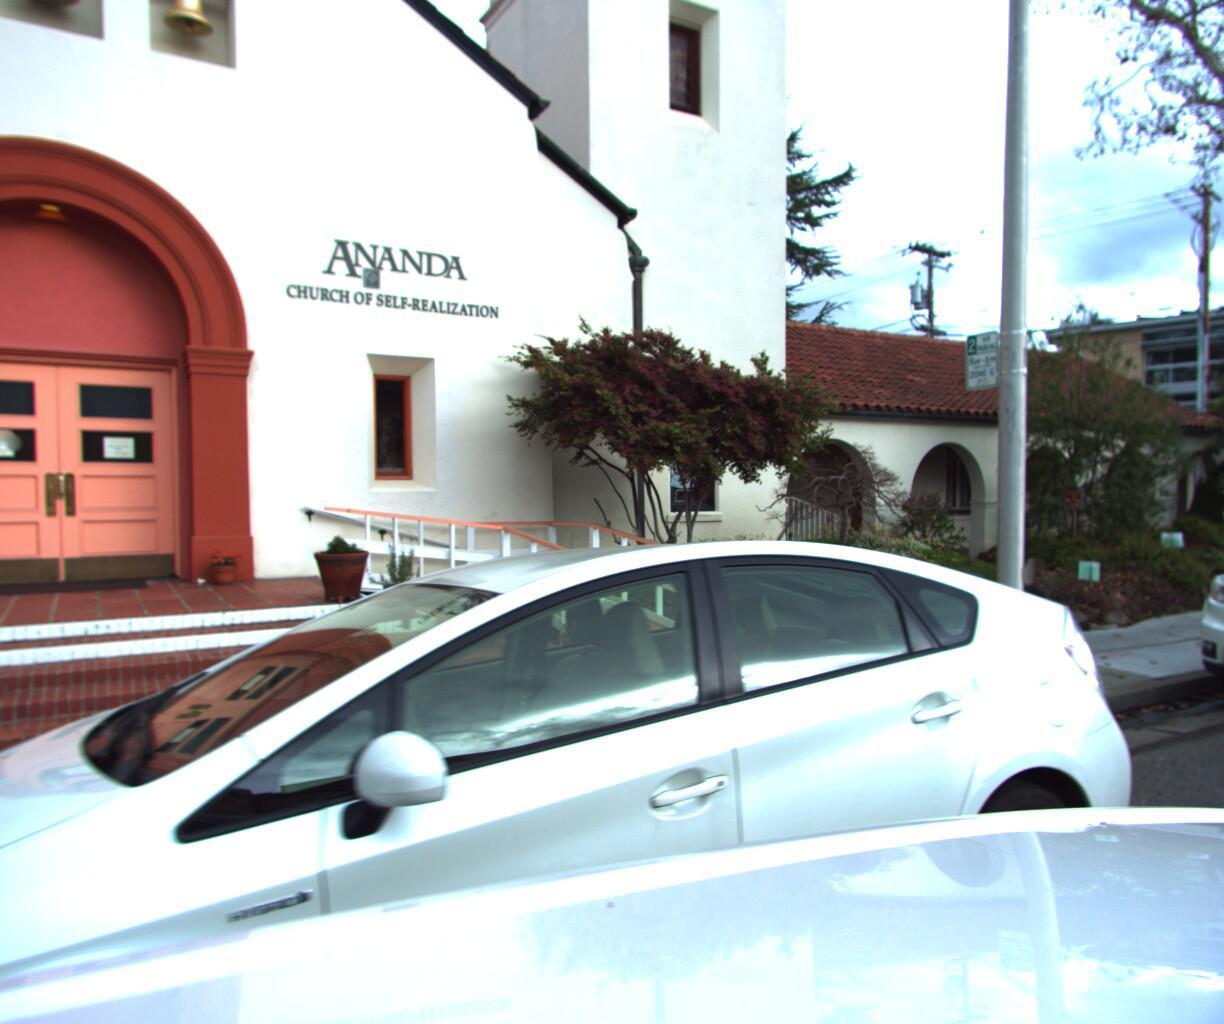car: (0, 520, 1199, 1024), (1178, 470, 1224, 771)
